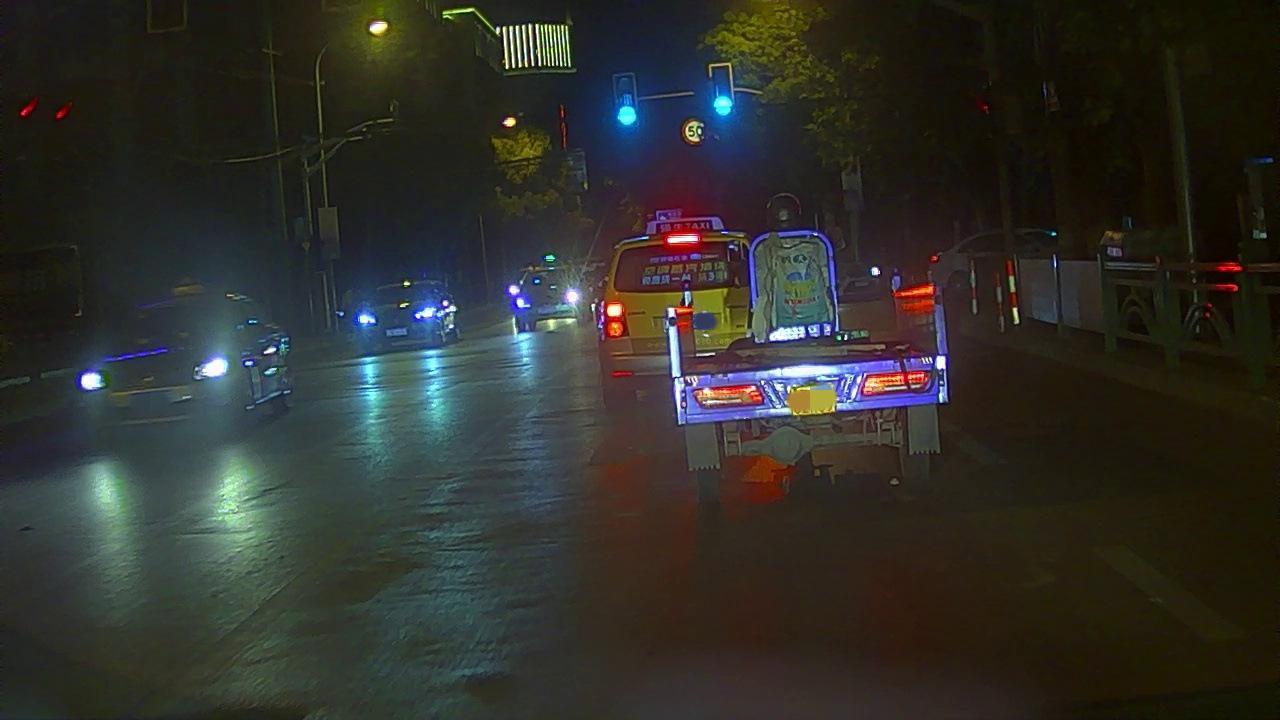traffic_light: (612, 72, 638, 131), (710, 66, 733, 120)
